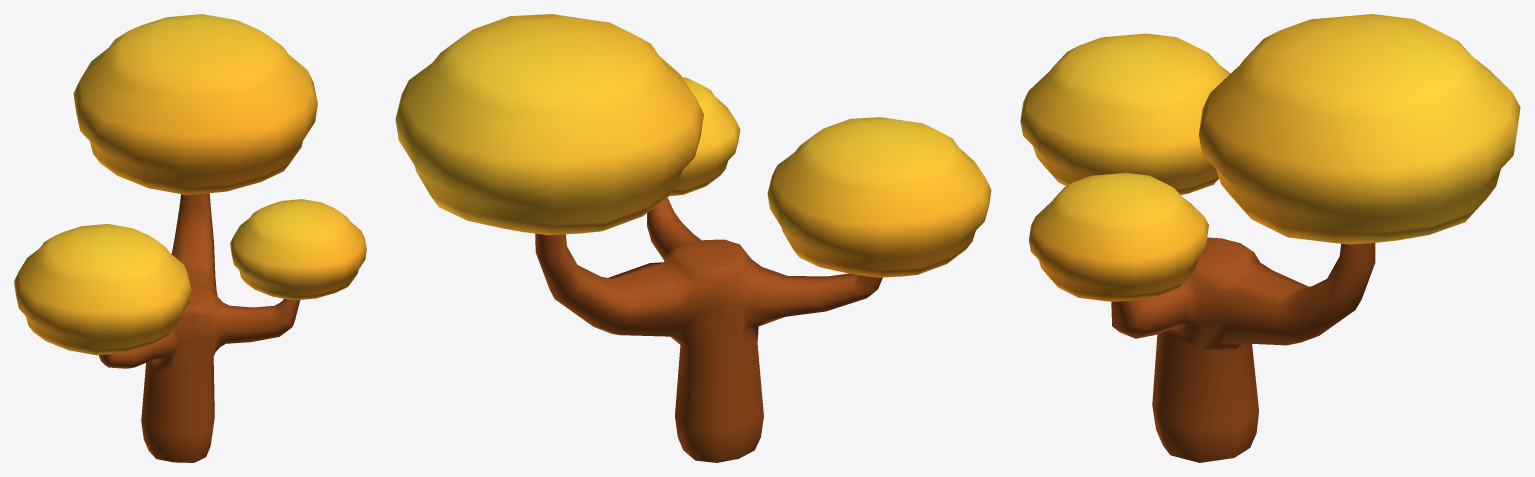
File: SM_Tree_34.fbx
The picture shows the model from 3 angles, left to right: view 1: azimuth 30°, elevation 25°; view 2: azimuth 150°, elevation 25°; view 3: azimuth 270°, elevation 25°; orthographic projection. The views are drawn at different scales.
Parts seen in each view (by area): view 1: SM_Tree_34; view 2: SM_Tree_34; view 3: SM_Tree_34.
Boxes of the visible parts, box(x1,y1,x2,y2) form: SM_Tree_34: box(14, 14, 366, 462); SM_Tree_34: box(395, 14, 991, 462); SM_Tree_34: box(1020, 14, 1520, 462).
Bounding box in the file's own units: 652 × 602 × 599.
